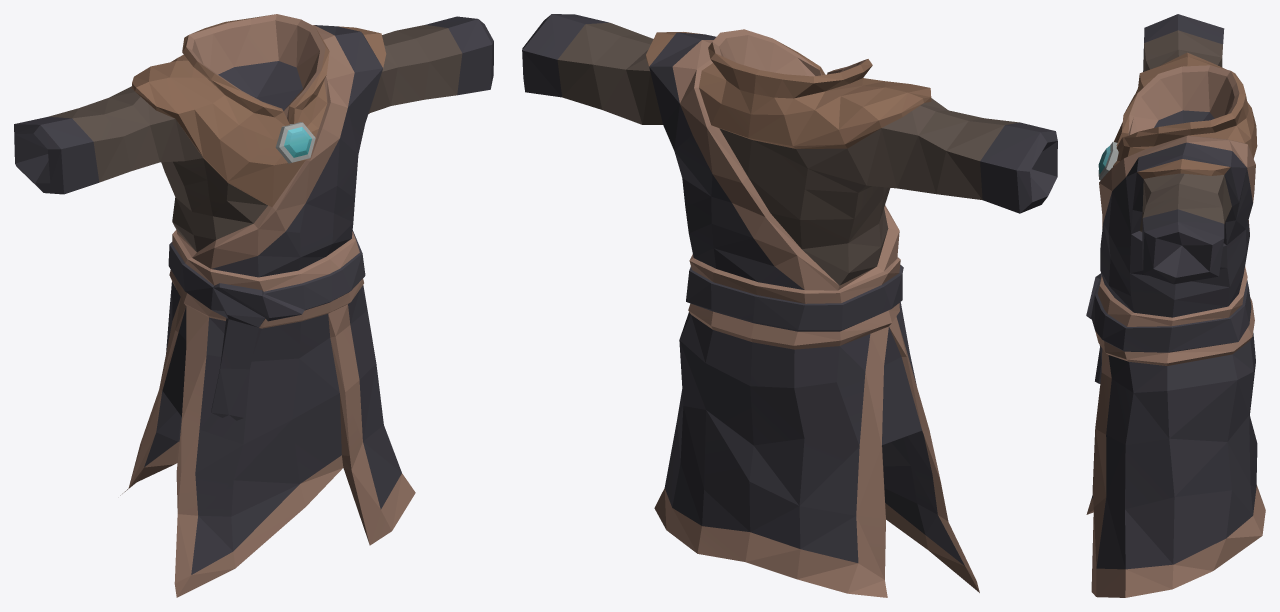
Rendered from armorSimpleRobeDisplay.fbx.
The picture shows the model from 3 angles, left to right: view 1: azimuth 30°, elevation 25°; view 2: azimuth 150°, elevation 25°; view 3: azimuth 270°, elevation 25°; orthographic projection. The views are drawn at different scales.
Visible parts, largest first — view 1: armorSimpleRobeDisplay; view 2: armorSimpleRobeDisplay; view 3: armorSimpleRobeDisplay.
Part boxes in pixels (x1,y1,x2,y2): armorSimpleRobeDisplay: [14, 14, 493, 597]; armorSimpleRobeDisplay: [522, 14, 1057, 597]; armorSimpleRobeDisplay: [1086, 14, 1265, 597].
Size of the model in its own units: 1.73 by 1.79 by 0.6111.
1 material, 1 textured.
